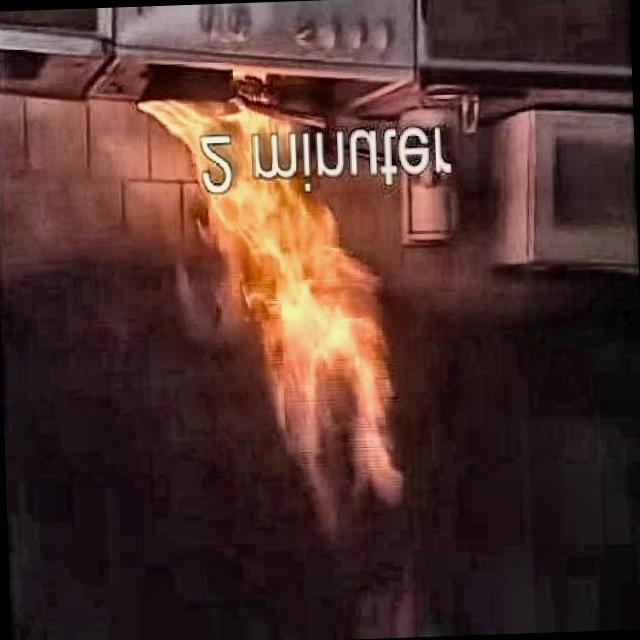fire: (125, 57, 392, 506)
